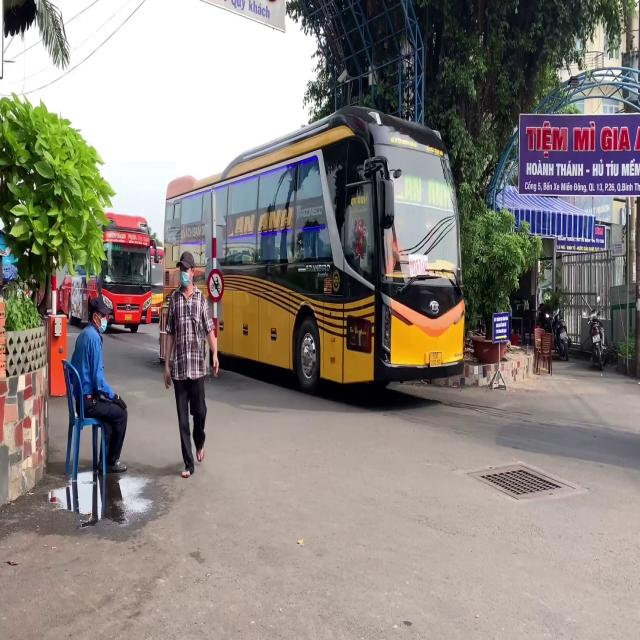bien_vang: (430, 352, 442, 368)
